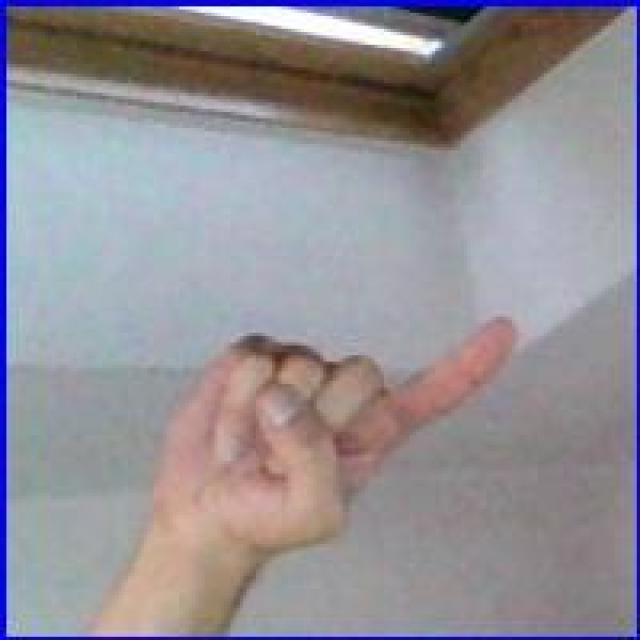Z: (141, 317, 518, 550)
